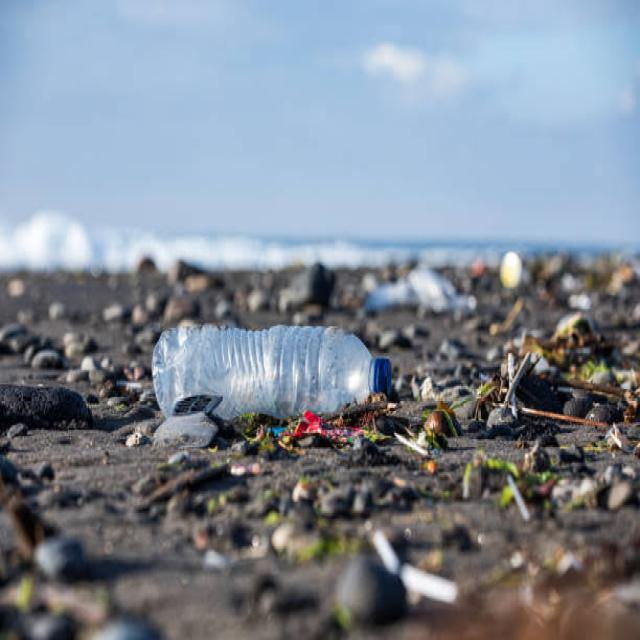plastic bottle: (138, 317, 398, 432)
